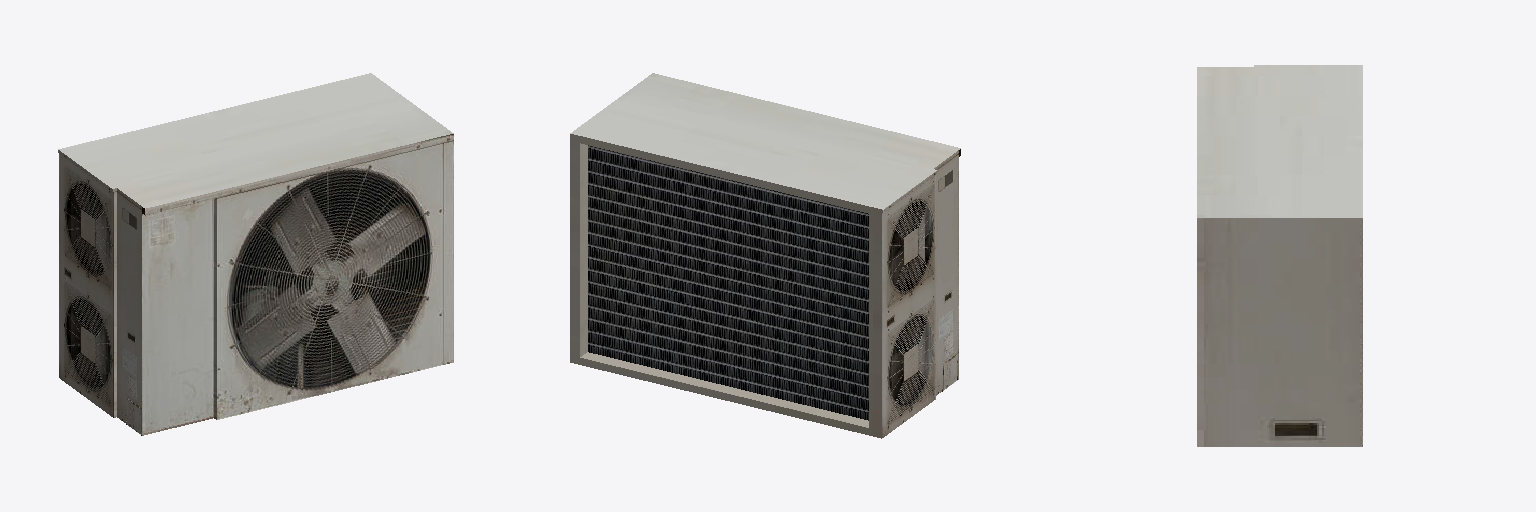
The picture shows the model from 3 angles: view 1: azimuth 30°, elevation 25°; view 2: azimuth 150°, elevation 25°; view 3: azimuth 270°, elevation 25°; orthographic projection.
Parts seen in each view (by area): view 1: AC_Cube; view 2: AC_Cube; view 3: AC_Cube.
Part boxes in pixels (left/top/right/bottom): AC_Cube: left=58, top=73, right=453, bottom=435; AC_Cube: left=570, top=73, right=960, bottom=438; AC_Cube: left=1197, top=65, right=1362, bottom=446.
Size of the model in its own units: 4.53 by 3.17 by 2.07.
Materials: 6 (3 with a texture image).